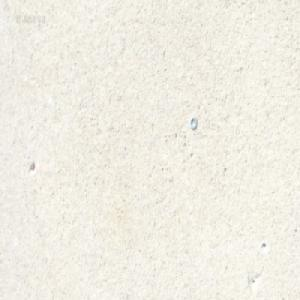Washer: (189, 115, 197, 130)
